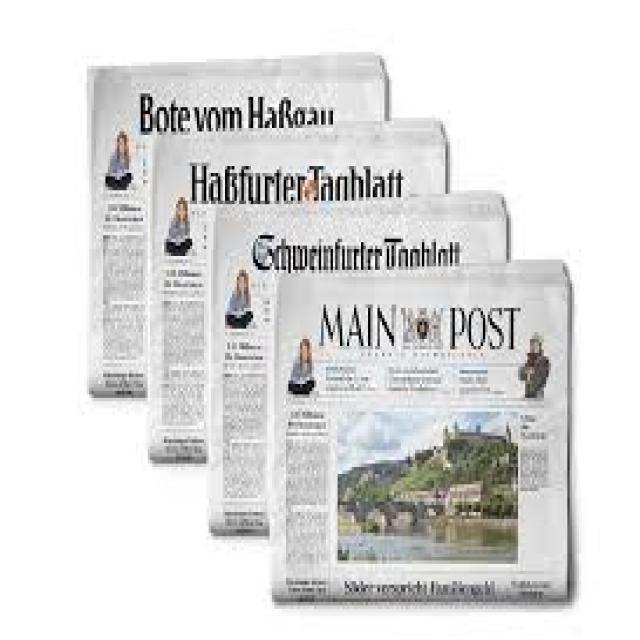Newspaper: (82, 50, 399, 390), (270, 265, 588, 599), (202, 190, 508, 527), (150, 116, 448, 461)
